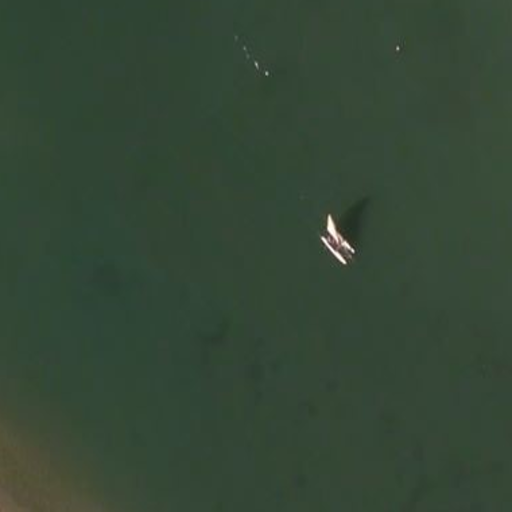ship: (316, 211, 357, 268)
